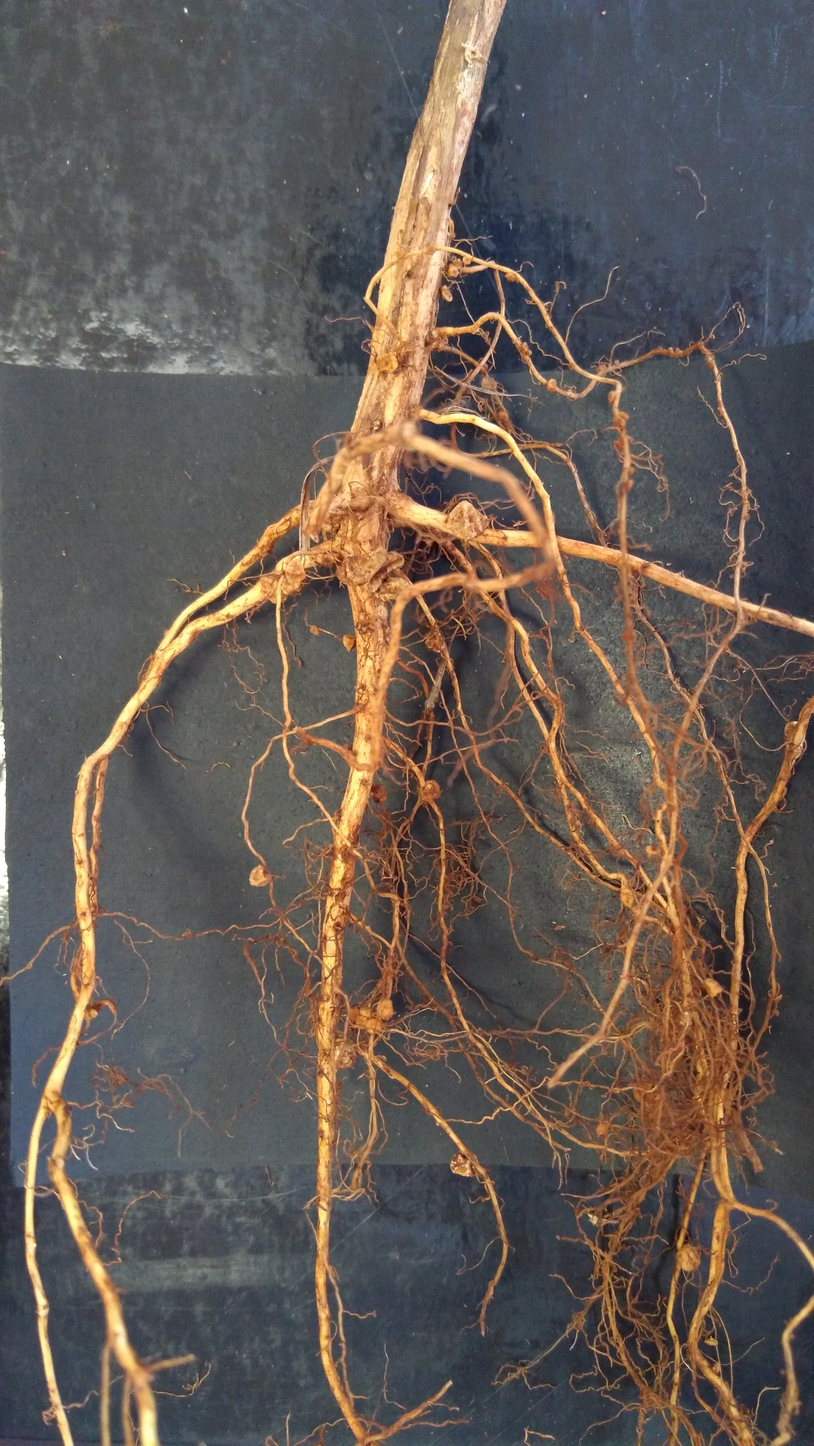nodule: (444, 499, 491, 546), (333, 547, 388, 585), (319, 490, 351, 534), (444, 1148, 479, 1183), (673, 1237, 704, 1275), (333, 1031, 359, 1075), (372, 548, 407, 580), (372, 991, 399, 1025), (378, 576, 410, 604), (783, 720, 804, 760), (417, 776, 443, 807), (283, 557, 309, 586), (247, 862, 272, 891), (372, 351, 399, 376), (347, 486, 372, 513), (426, 632, 451, 656), (425, 328, 450, 350), (611, 406, 632, 432), (631, 1080, 654, 1103), (702, 976, 724, 1000), (370, 781, 391, 805), (618, 886, 635, 908), (81, 1004, 101, 1022), (362, 1017, 384, 1033), (341, 632, 357, 653), (545, 376, 558, 397), (594, 1122, 611, 1138), (440, 284, 454, 303), (503, 270, 520, 285), (359, 1006, 376, 1021), (604, 388, 618, 406), (450, 256, 465, 272), (645, 843, 662, 857), (613, 435, 626, 453), (481, 377, 500, 389), (447, 263, 460, 280), (521, 340, 533, 357), (353, 1016, 370, 1028), (307, 622, 319, 637), (498, 408, 509, 422), (625, 478, 636, 492), (459, 256, 474, 265), (566, 360, 576, 372), (480, 362, 489, 372)
